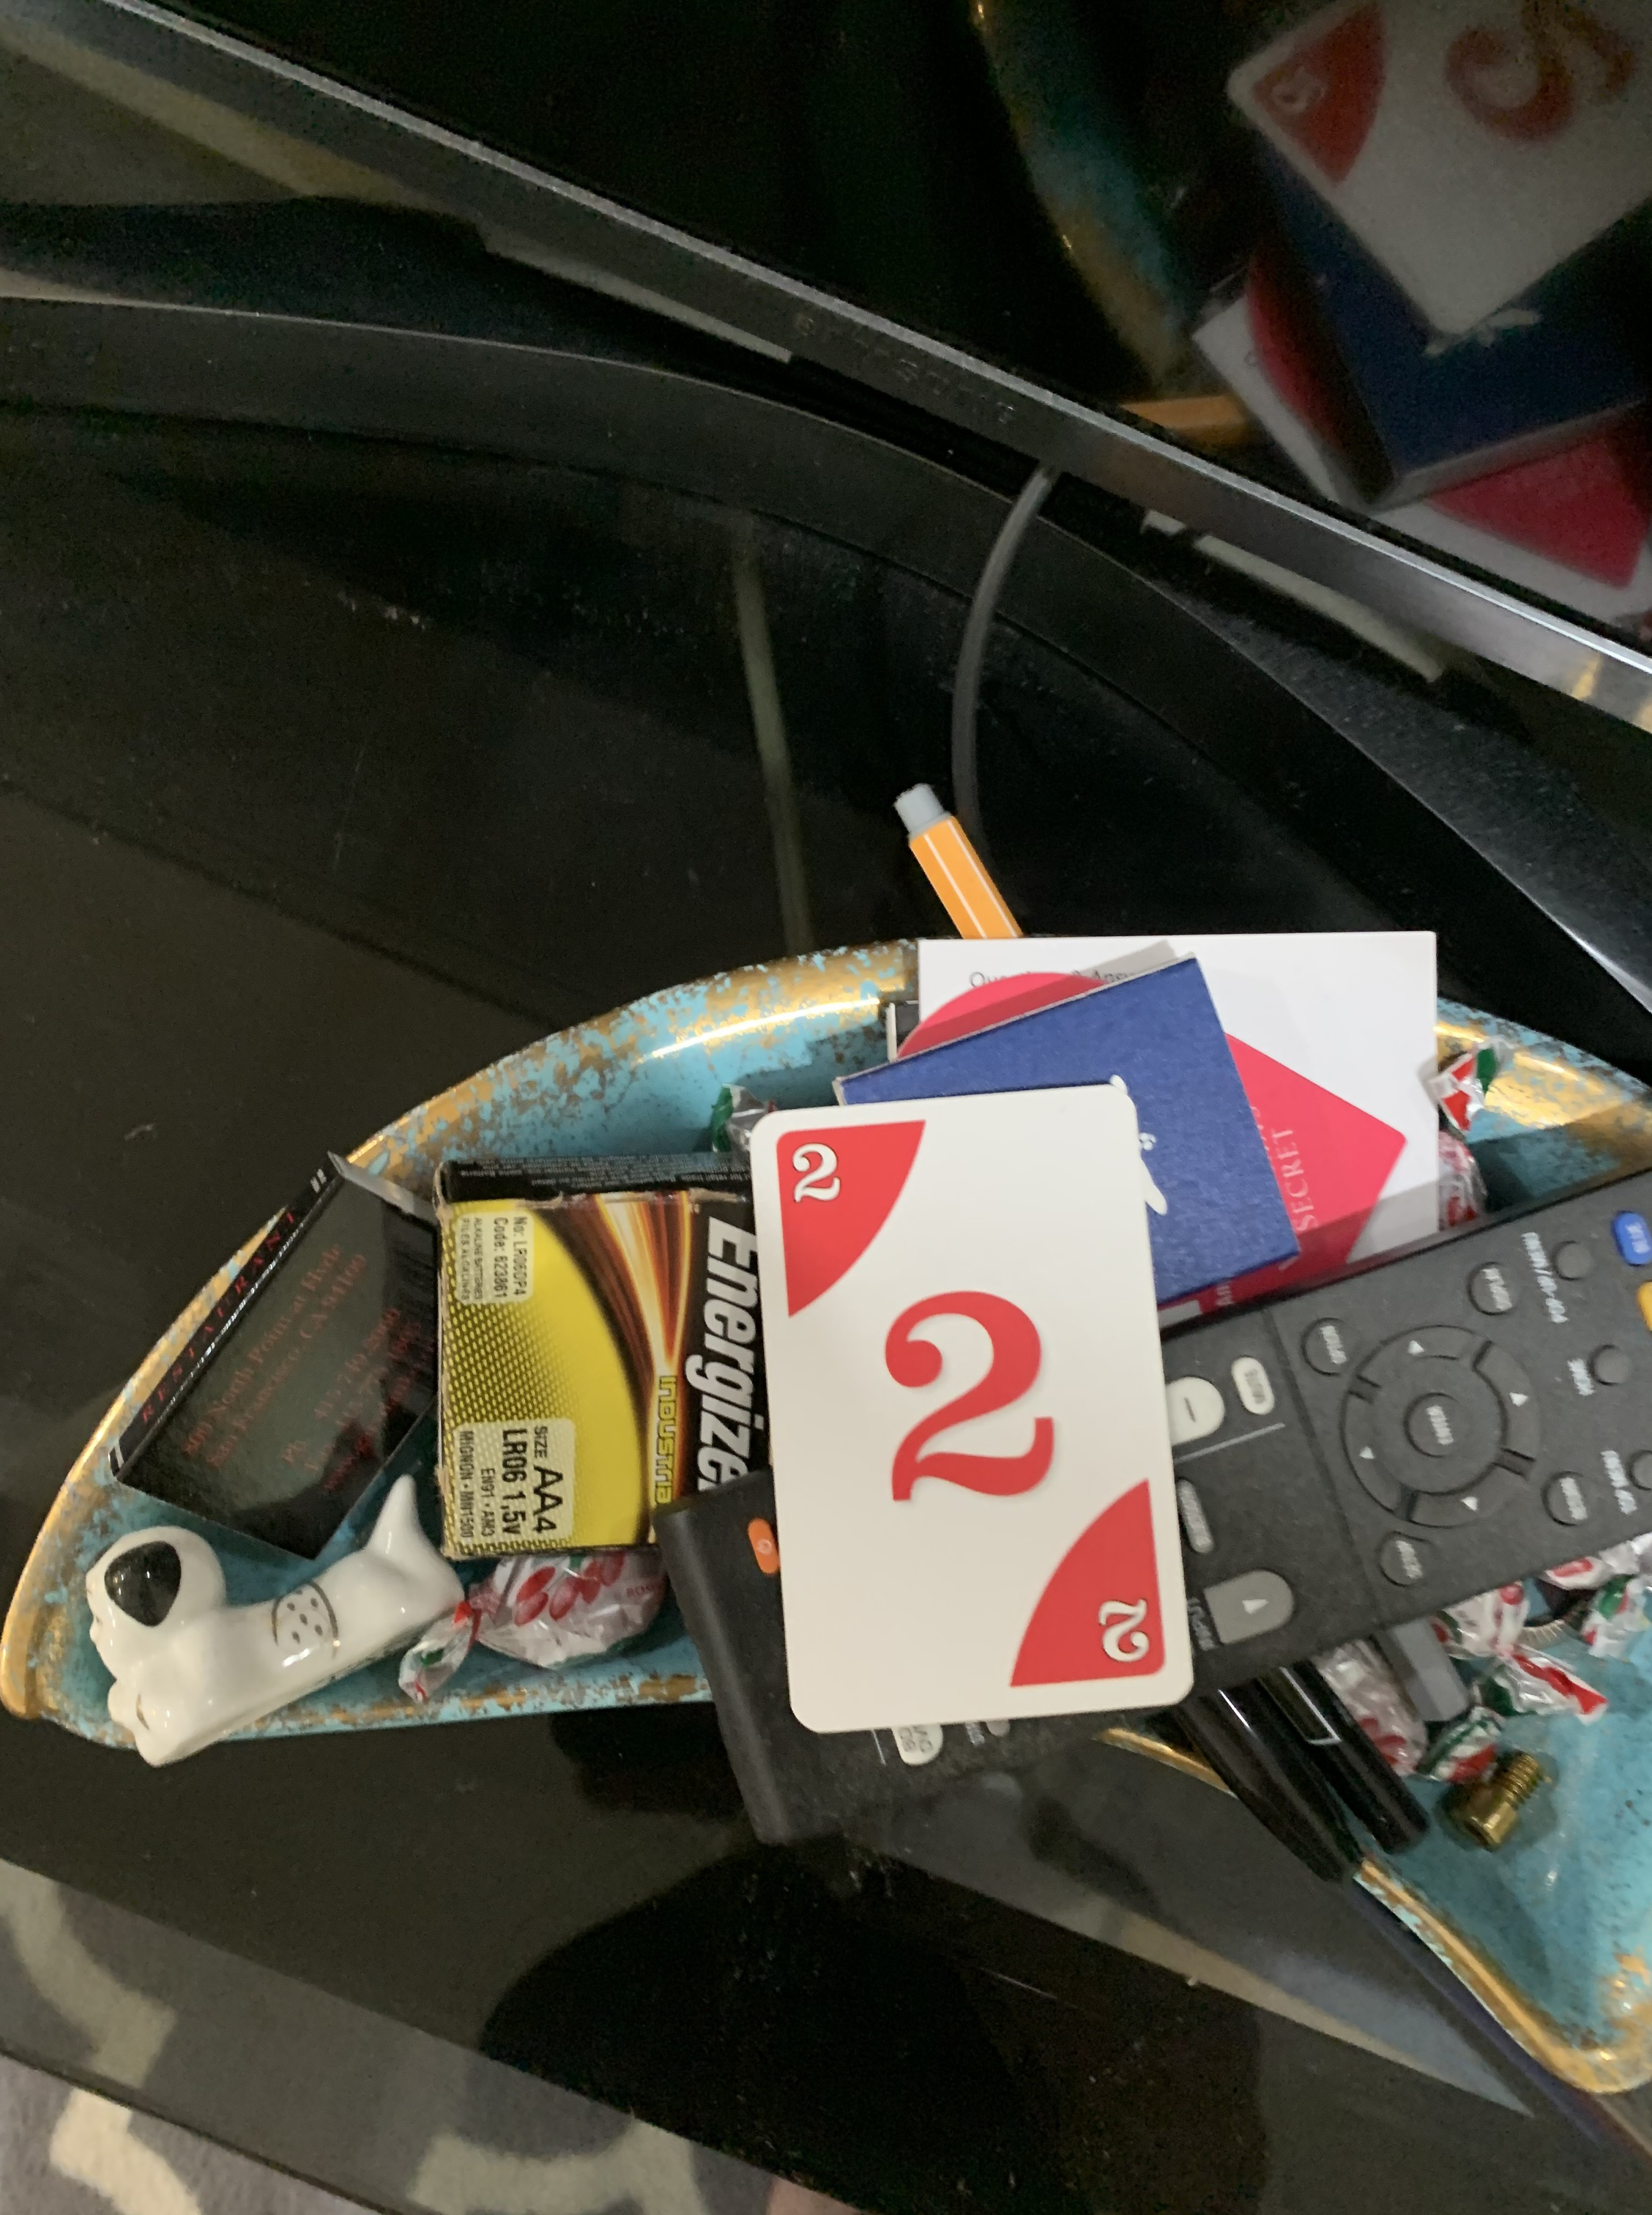two: (731, 1078, 1211, 1746)
